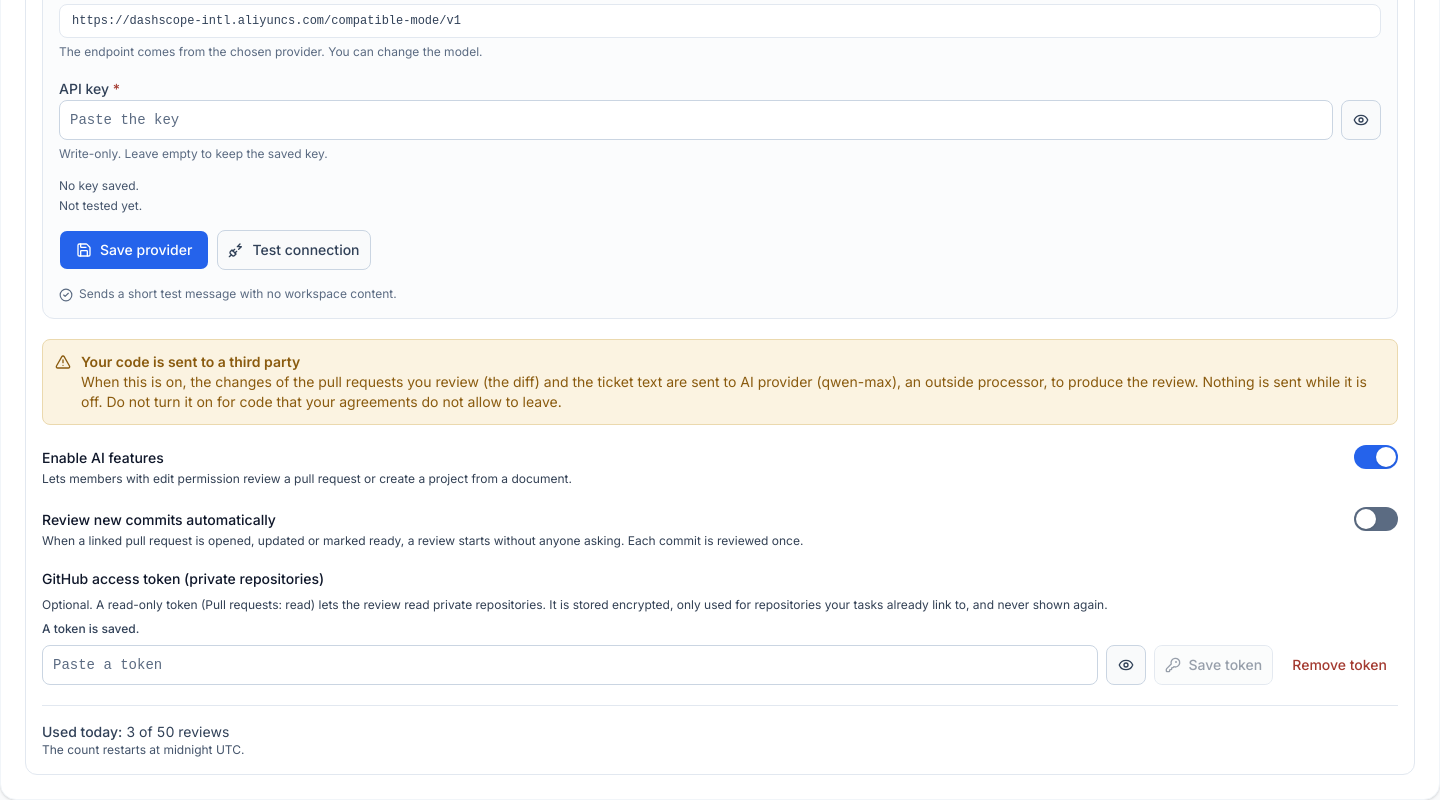
Test: AiReviewSettingsCard › AC-025: removes a saved token
(page scrolled)
Click the button "Remove token" at [1340, 665], box x1=1281 y1=645 x2=1398 y2=685
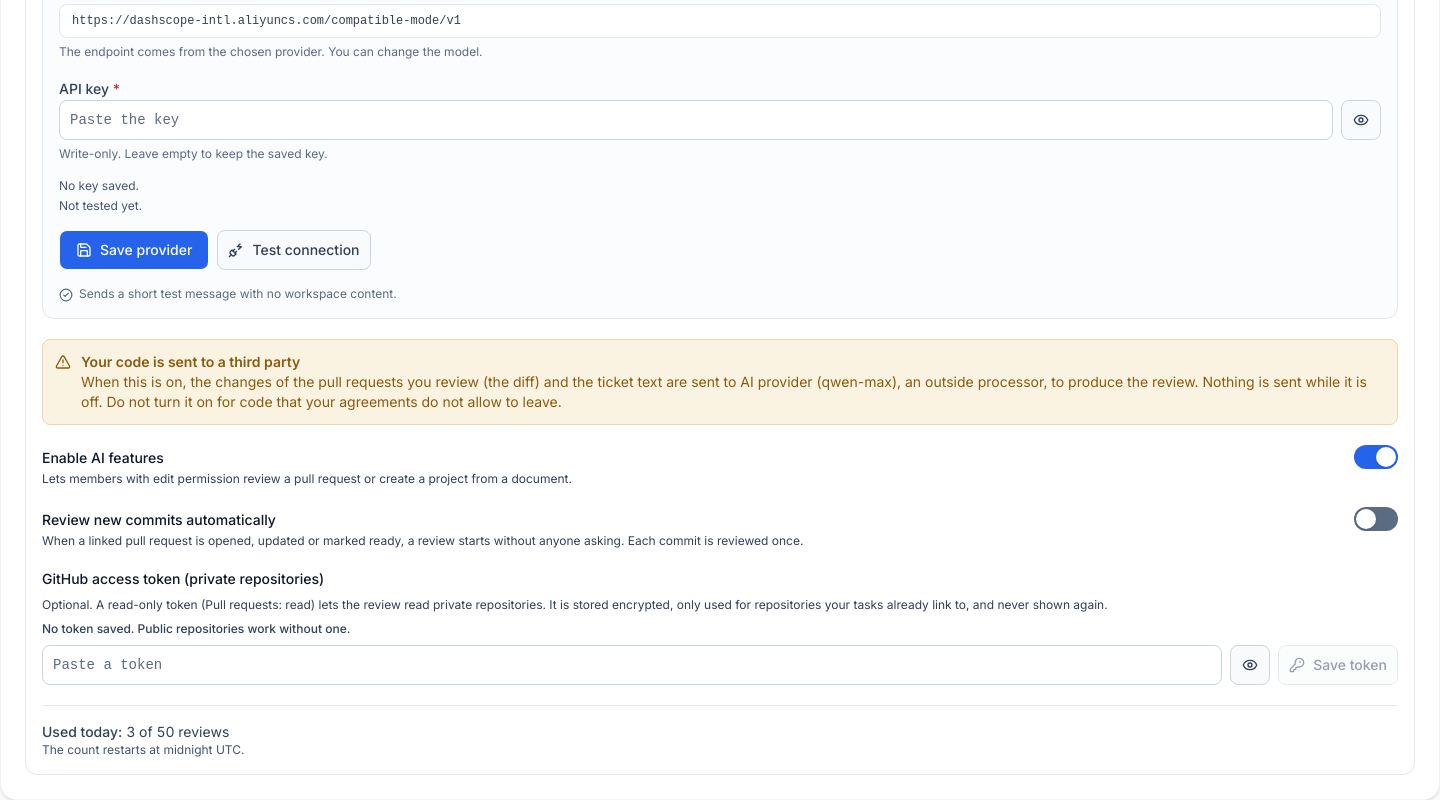
Now the text "No token saved. Public repositories work without one." is shown, box x1=42 y1=621 x2=350 y2=636
